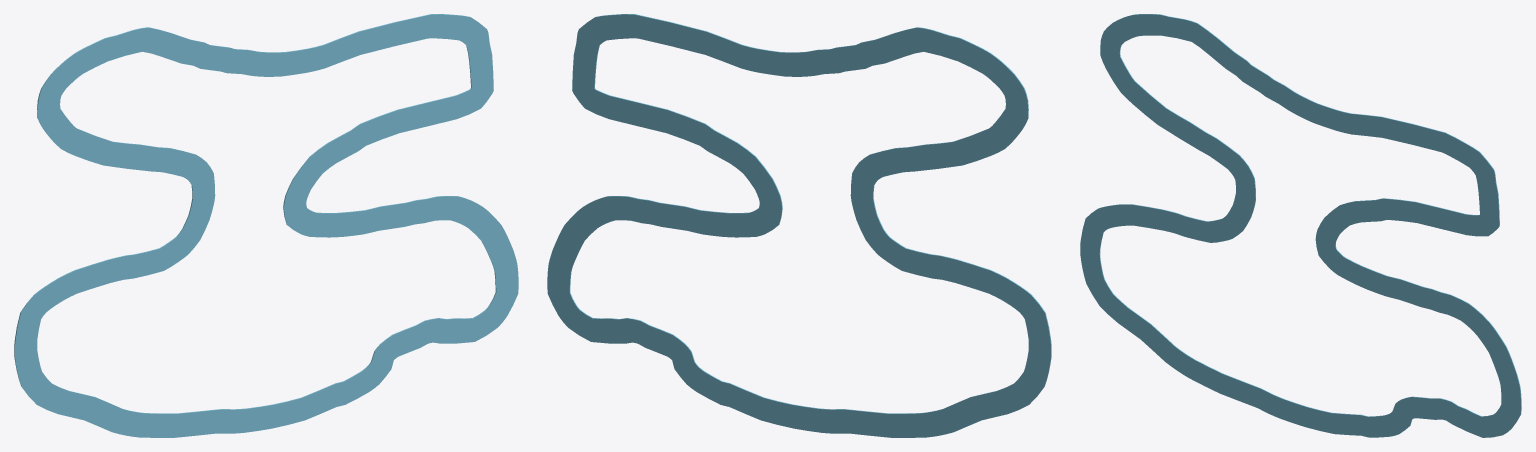
Rendered from tinker.obj.
3 renders of one model, left to right at view 1: azimuth 30°, elevation 25°; view 2: azimuth 150°, elevation 25°; view 3: azimuth 330°, elevation 25°, orthographic. The views are drawn at different scales.
Parts seen in each view (by area): view 1: obj_0; view 2: obj_0; view 3: obj_0.
Part boxes in pixels (x1,y1,x2,y2): obj_0: [14, 14, 518, 437]; obj_0: [547, 14, 1051, 437]; obj_0: [1080, 14, 1521, 437].
Bounding box in the file's own units: 45 × 36.89 × 0.1.
